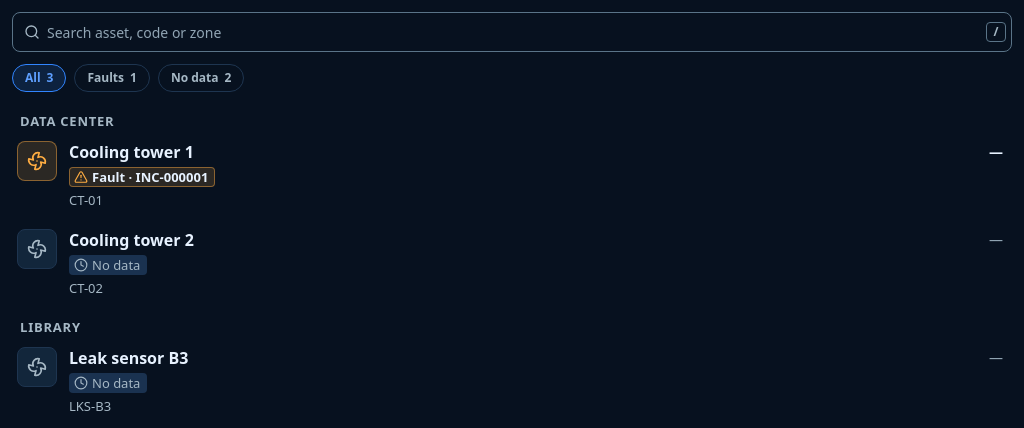
AssetFeed › search and zone › narrows every count by the search, matching name, code and zone
Type "leak" into the search field named "Search assets" at (512, 32), box [12,12,1012,52]
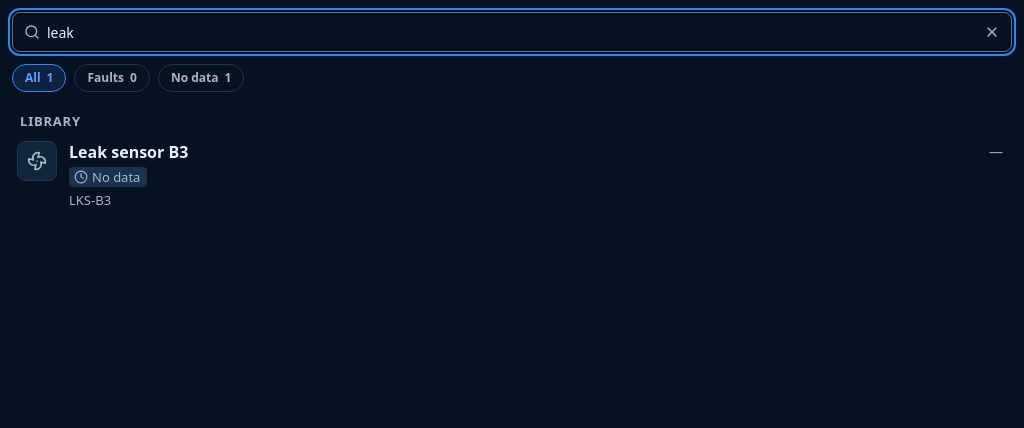
Check: the tab "All 1" is shown, box [12,64,66,92]
Check: the tab "Faults 0" is shown, box [74,64,150,92]
Check: the tab "No data 1" is shown, box [158,64,244,92]
